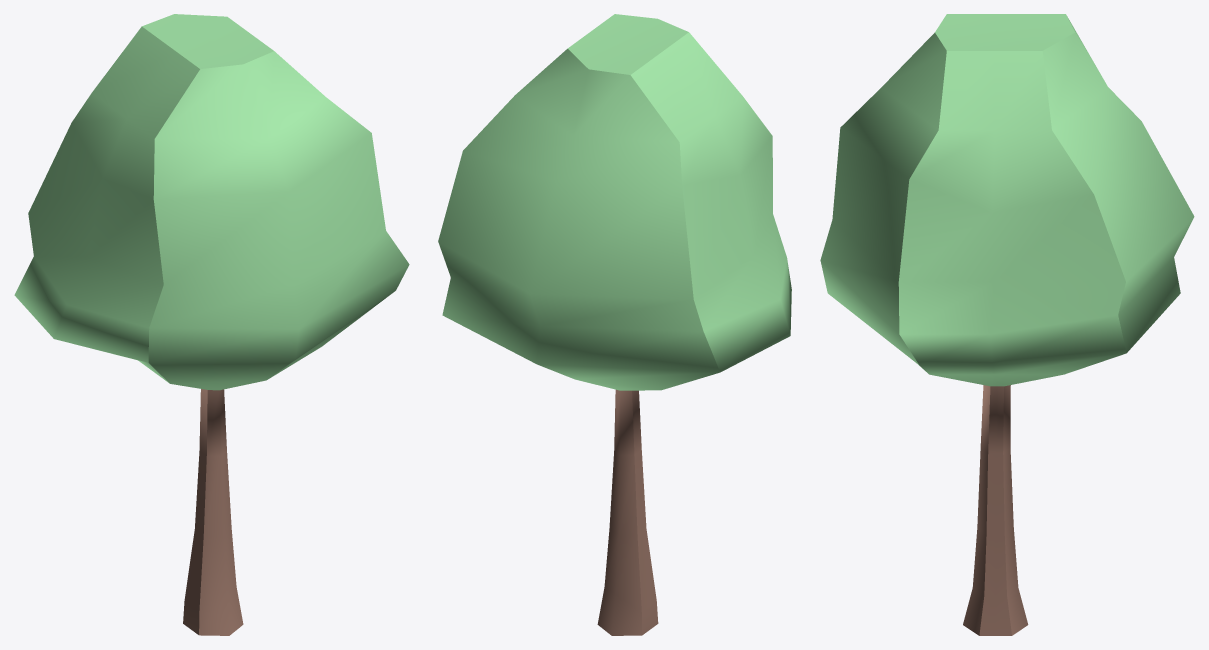
File: tree2.fbx
3 renders of one model, left to right at view 1: azimuth 30°, elevation 25°; view 2: azimuth 150°, elevation 25°; view 3: azimuth 270°, elevation 25°, orthographic.
Visible parts, largest first — view 1: tree2; view 2: tree2; view 3: tree2.
Part boxes in pixels (x1,y1,x2,y2): tree2: (14,14,409,635); tree2: (438,14,791,635); tree2: (820,14,1194,635).
Size of the model in its own units: 19.07 by 34.2 by 19.57.
